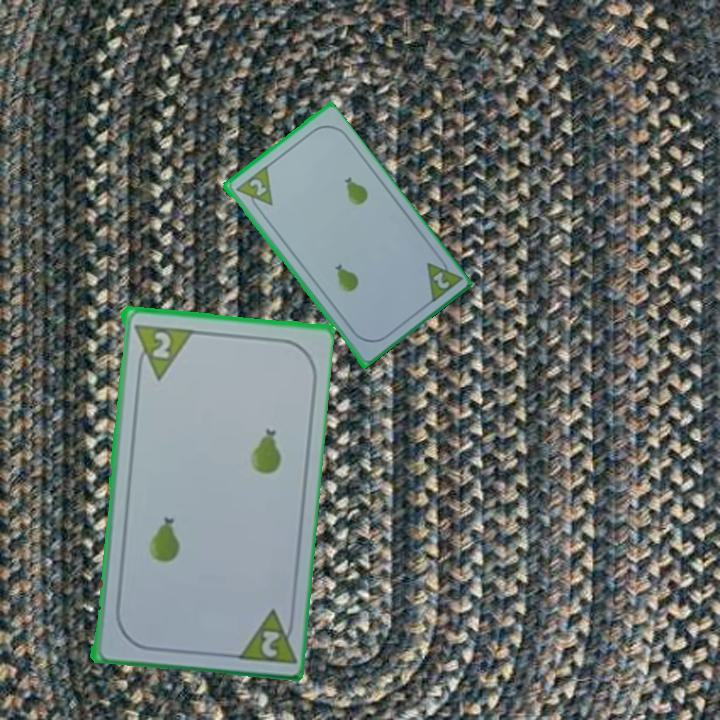2p: (231, 163, 275, 216), (147, 327, 174, 361), (257, 626, 282, 660), (429, 268, 452, 292)
